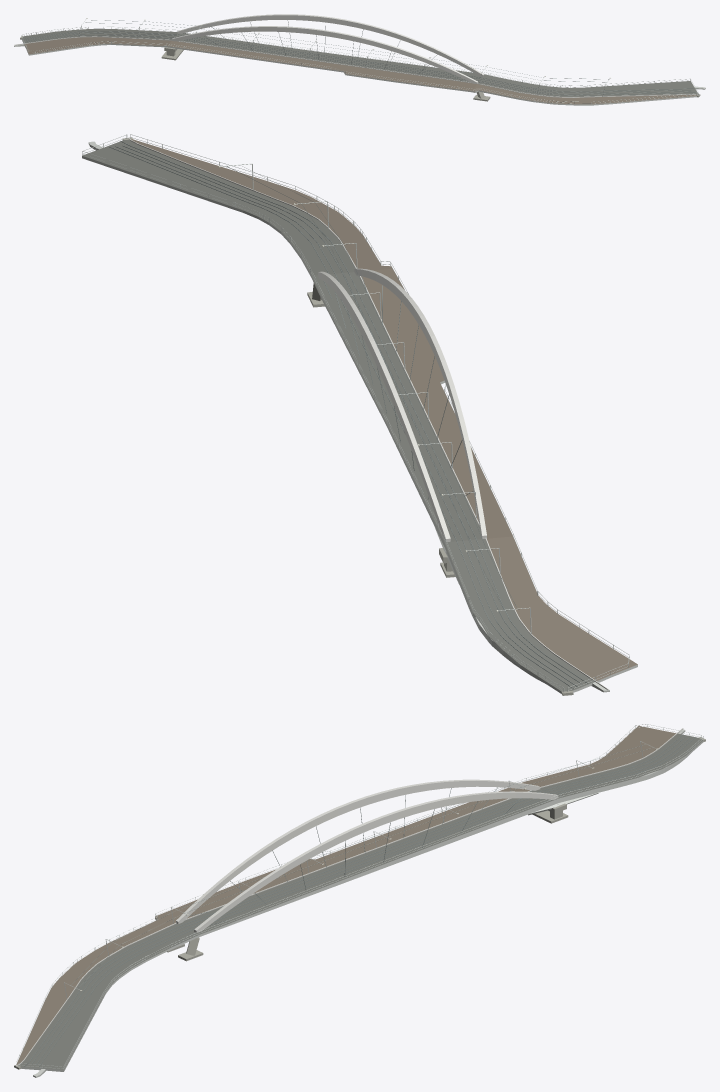
Rendered from pont-raymond-barre-far.glb.
The picture shows the model from 3 angles, top to bottom: view 1: azimuth 30°, elevation 25°; view 2: azimuth 150°, elevation 25°; view 3: azimuth 270°, elevation 25°; orthographic projection. The views are drawn at different scales.
Visible parts, largest first — view 1: pont-raymond-barre-0-track, pont-raymond-barre-0-walk, pont-raymond-barre-0-arch, pont-raymond-barre-0-hanger, pont-raymond-barre-0-railing, pont-raymond-barre-0-deck, pont-raymond-barre-0-concrete; view 2: pont-raymond-barre-0-track, pont-raymond-barre-0-walk, pont-raymond-barre-0-arch, pont-raymond-barre-0-hanger, pont-raymond-barre-0-railing, pont-raymond-barre-0-deck; view 3: pont-raymond-barre-0-track, pont-raymond-barre-0-walk, pont-raymond-barre-0-arch, pont-raymond-barre-0-hanger, pont-raymond-barre-0-deck, pont-raymond-barre-0-railing, pont-raymond-barre-0-concrete.
Part boxes in pixels (bbox=[...]): pont-raymond-barre-0-track: bbox=[22, 29, 697, 97]; pont-raymond-barre-0-walk: bbox=[24, 37, 696, 104]; pont-raymond-barre-0-arch: bbox=[14, 14, 699, 97]; pont-raymond-barre-0-hanger: bbox=[23, 20, 697, 95]; pont-raymond-barre-0-railing: bbox=[21, 19, 698, 103]; pont-raymond-barre-0-deck: bbox=[14, 39, 705, 105]; pont-raymond-barre-0-concrete: bbox=[20, 36, 700, 101]; pont-raymond-barre-0-track: bbox=[82, 139, 594, 691]; pont-raymond-barre-0-walk: bbox=[131, 139, 637, 680]; pont-raymond-barre-0-arch: bbox=[128, 137, 608, 689]; pont-raymond-barre-0-hanger: bbox=[109, 141, 588, 688]; pont-raymond-barre-0-railing: bbox=[82, 134, 629, 692]; pont-raymond-barre-0-deck: bbox=[82, 141, 637, 694]; pont-raymond-barre-0-track: bbox=[19, 733, 703, 1070]; pont-raymond-barre-0-walk: bbox=[16, 725, 675, 1064]; pont-raymond-barre-0-arch: bbox=[15, 728, 683, 1066]; pont-raymond-barre-0-hanger: bbox=[24, 734, 695, 1066]; pont-raymond-barre-0-deck: bbox=[15, 729, 703, 1077]; pont-raymond-barre-0-railing: bbox=[16, 724, 703, 1069]; pont-raymond-barre-0-concrete: bbox=[14, 737, 705, 1069].
Size of the model in its own units: 256 by 25.01 by 215.
